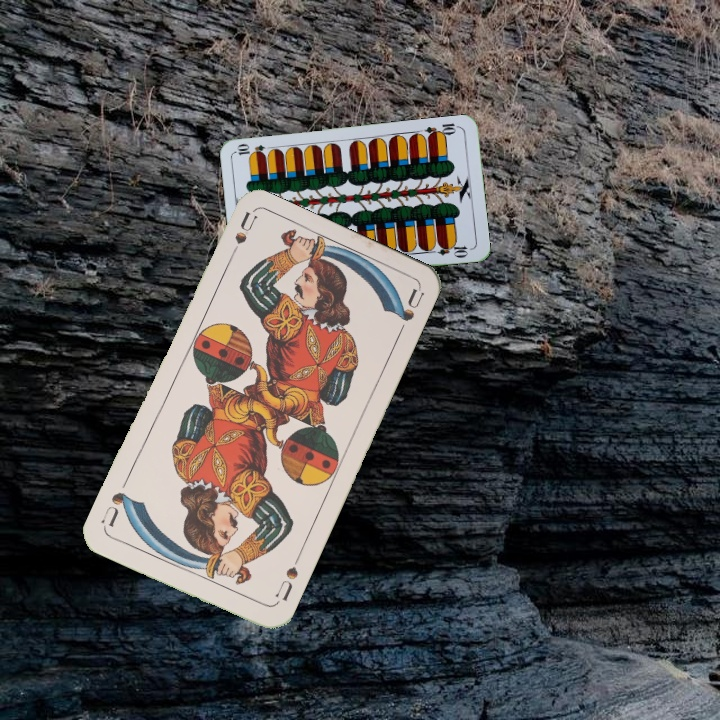E10: (421, 119, 462, 141)
SU: (223, 209, 259, 267), (271, 551, 303, 604)
